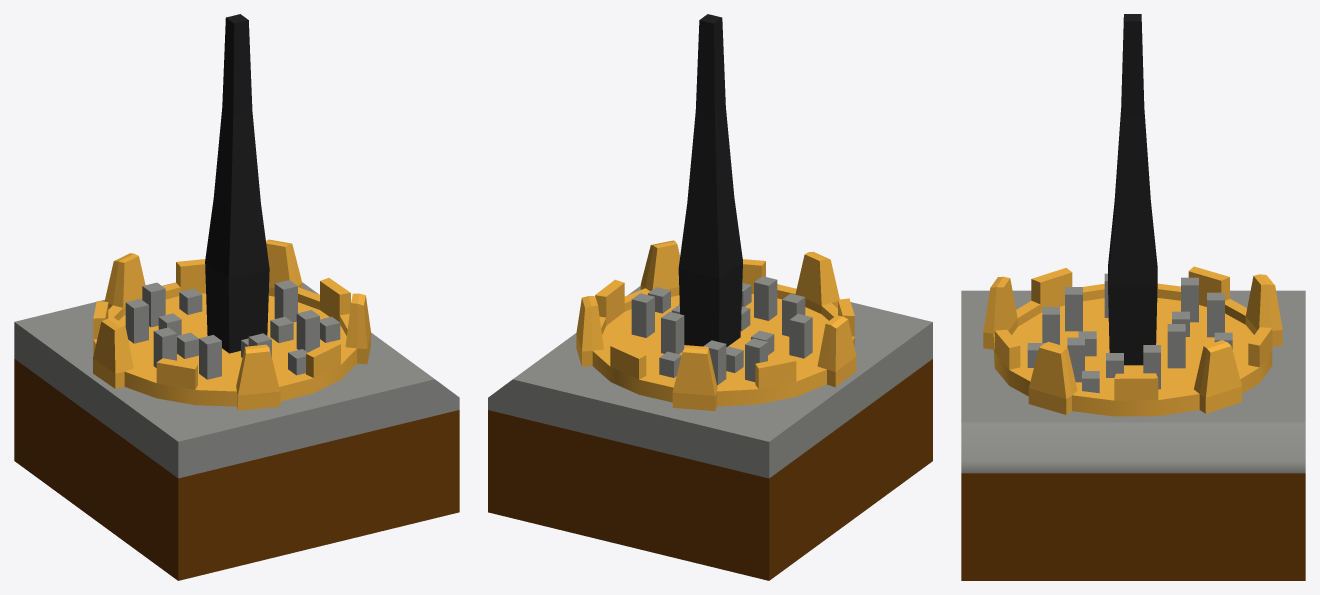
The model's file is Capital01.fbx.
The picture shows the model from 3 angles, left to right: view 1: azimuth 30°, elevation 25°; view 2: azimuth 150°, elevation 25°; view 3: azimuth 270°, elevation 25°; orthographic projection. The views are drawn at different scales.
Visible parts, largest first — view 1: Capital01; view 2: Capital01; view 3: Capital01.
Boxes of the visible parts, box(x1,y1,x2,y2) form: Capital01: box(14, 14, 459, 580); Capital01: box(488, 14, 932, 580); Capital01: box(961, 14, 1305, 580).
Size of the model in its own units: 96.18 by 153 by 97.03.
Materials: 1 (1 with a texture image).
